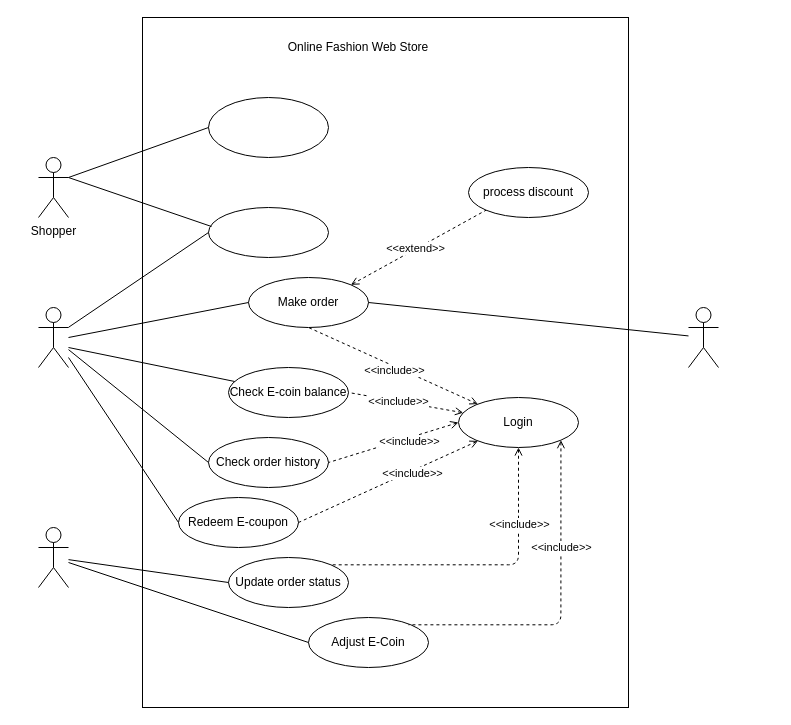
Some shapes in this 791 by 725 pixel diagram are drawn without their labels. The box of each missing label's shape, as (x1, y1, x2, y2) in pixels:
External payment gateway: (688, 306, 718, 368)
Member: (38, 306, 68, 368)
Register member: (208, 96, 328, 158)
Staff member: (38, 526, 68, 588)
View clothes: (208, 206, 328, 258)
